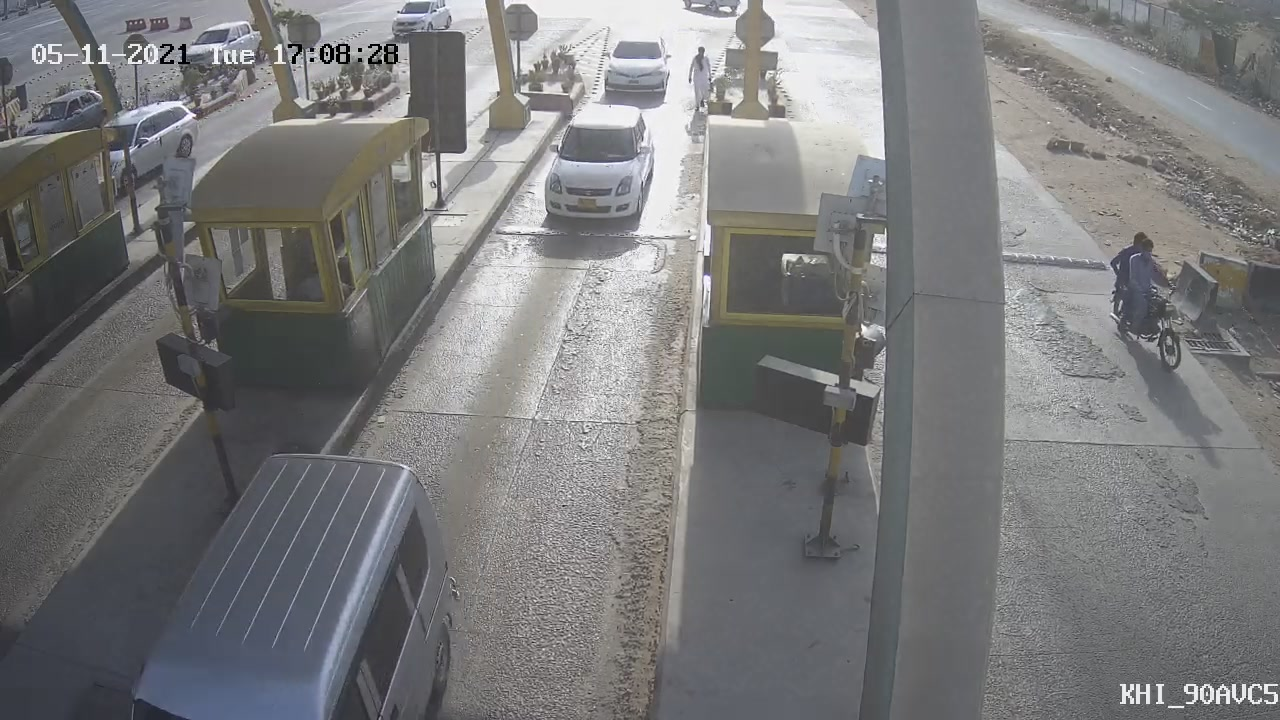F1: (524, 83, 672, 243)
